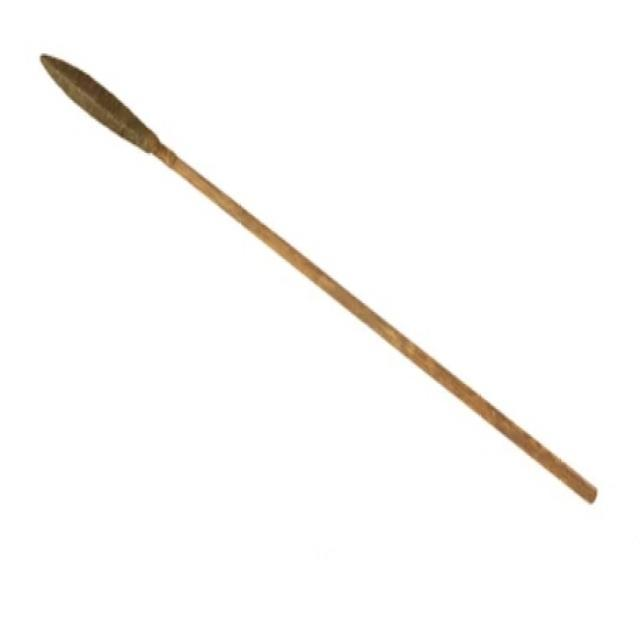spear: (24, 38, 608, 544)
